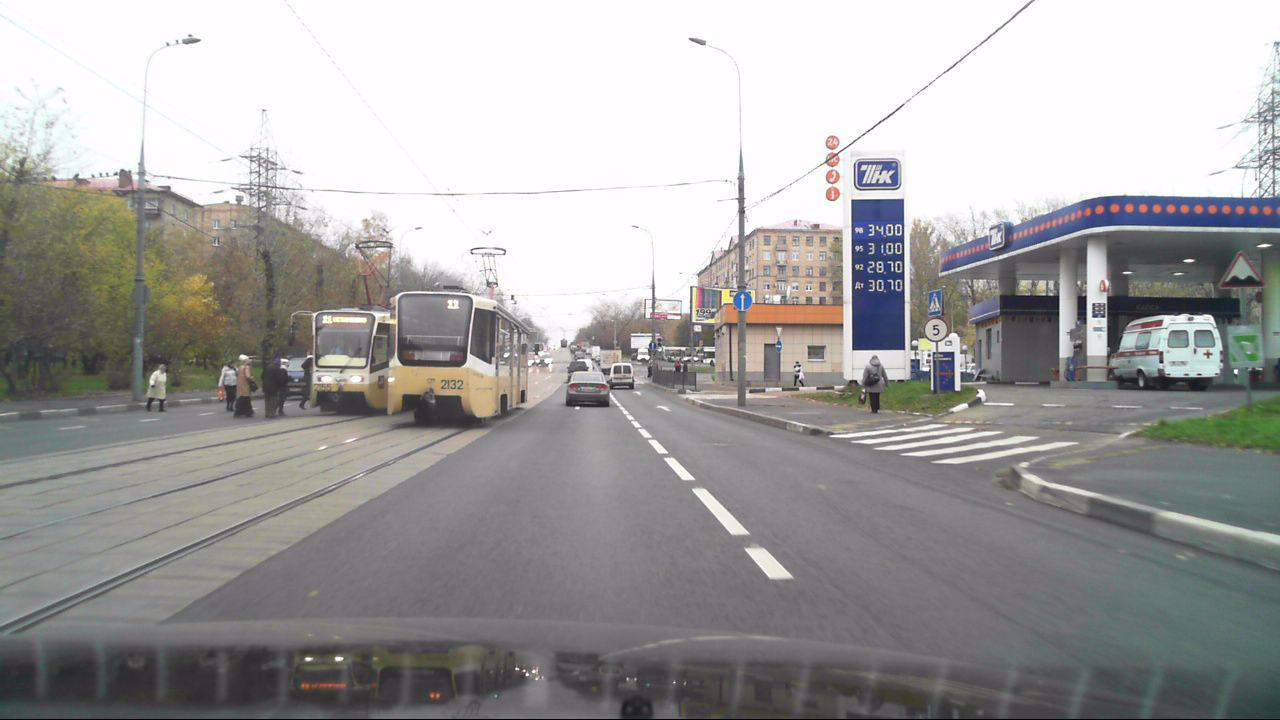road_sign: (1218, 251, 1266, 288), (924, 317, 949, 342), (928, 288, 943, 318), (734, 291, 752, 311)
